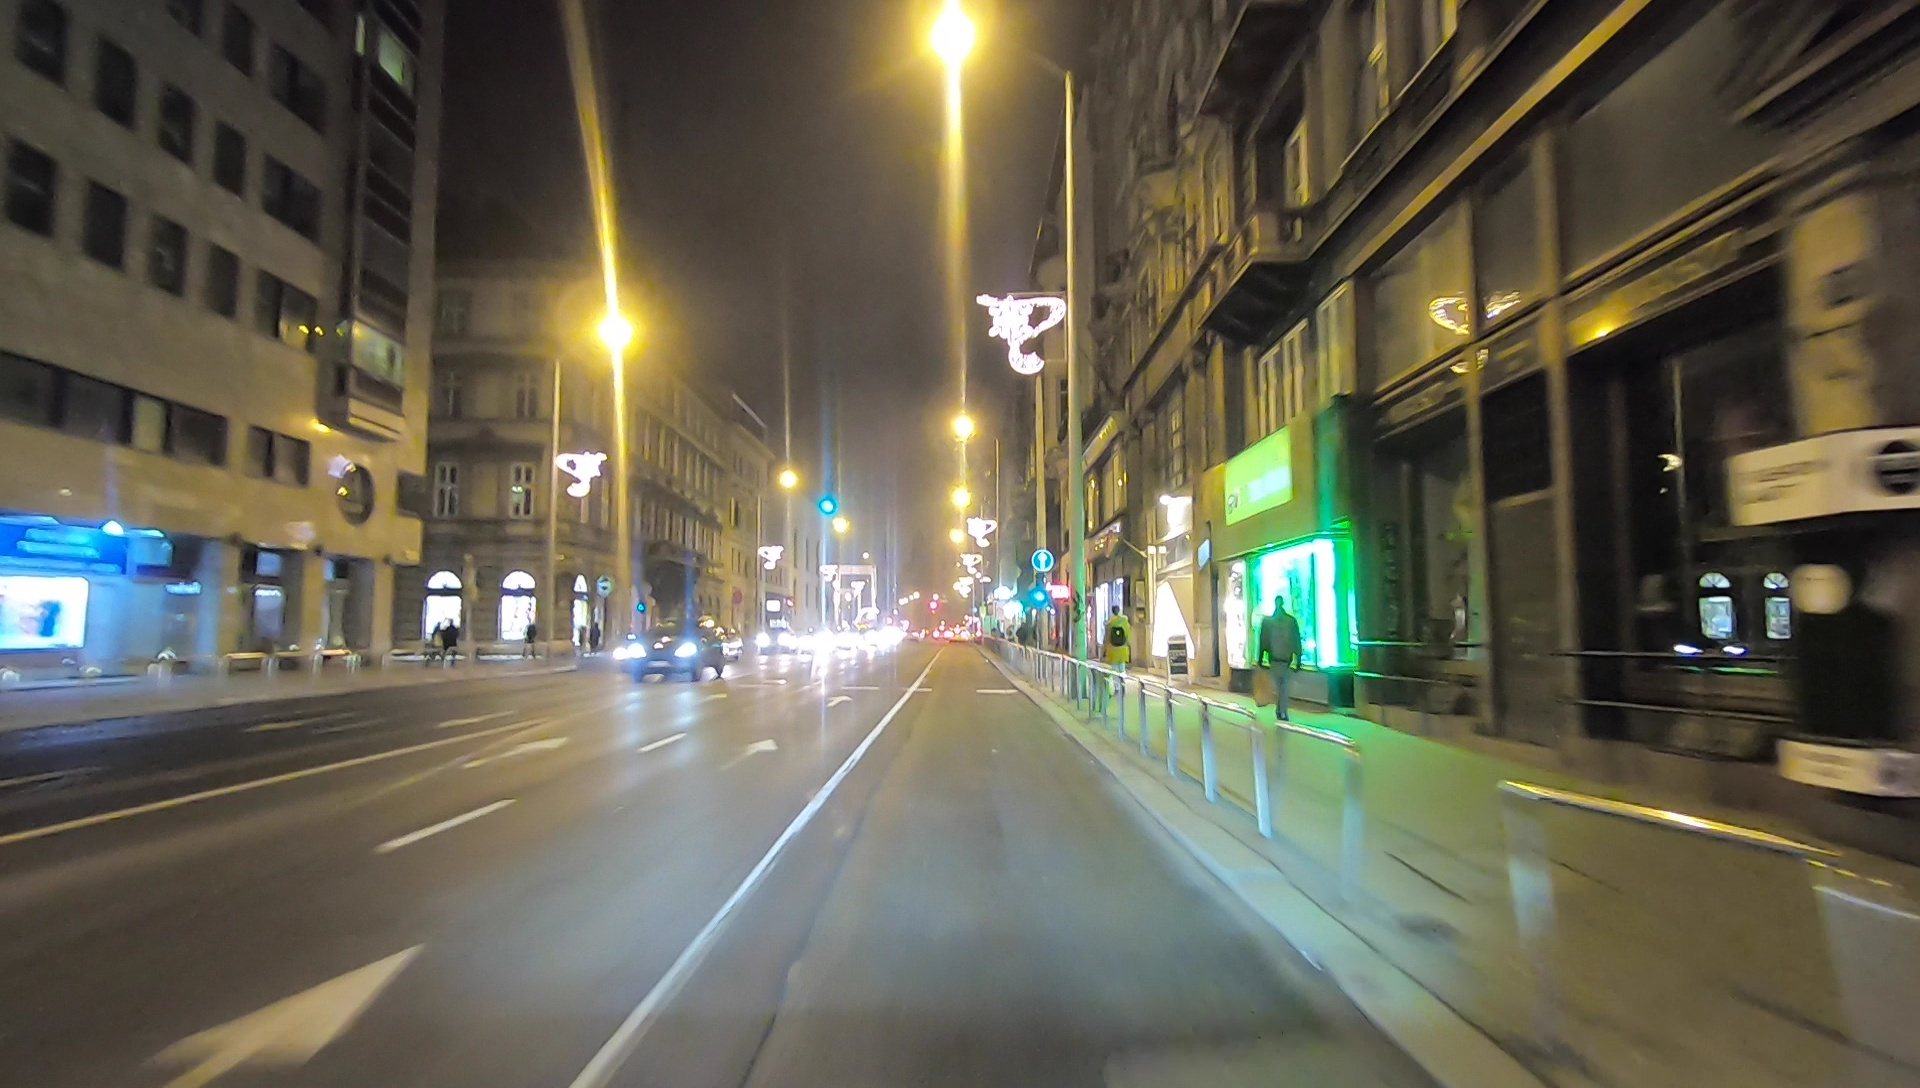person: (1254, 595, 1306, 726), (1101, 606, 1132, 695), (444, 618, 457, 667), (525, 617, 537, 661)
